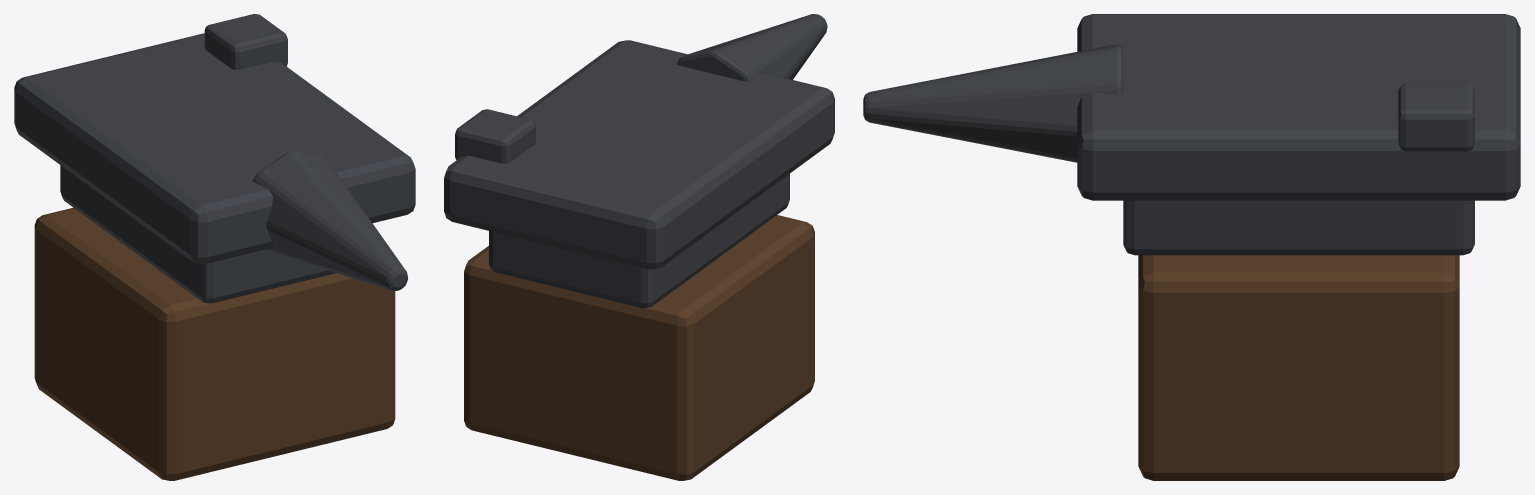
File: anvil.glb
3 renders of one model, left to right at view 1: azimuth 30°, elevation 25°; view 2: azimuth 150°, elevation 25°; view 3: azimuth 270°, elevation 25°, orthographic. The views are drawn at different scales.
Visible parts, largest first — view 1: Cube, Cube.002, Cone, Cube.001, Cube.003; view 2: Cube, Cube.002, Cube.001, Cone, Cube.003; view 3: Cube.002, Cube, Cube.001, Cone, Cube.003.
Boxes of the visible parts, bbox=[...] form: Cube: bbox=[34, 207, 395, 480]; Cube.002: bbox=[14, 33, 415, 263]; Cone: bbox=[253, 150, 407, 290]; Cube.001: bbox=[60, 165, 335, 303]; Cube.003: bbox=[204, 14, 287, 69]; Cube: bbox=[464, 215, 814, 480]; Cube.002: bbox=[444, 40, 834, 269]; Cube.001: bbox=[489, 173, 789, 308]; Cone: bbox=[677, 14, 827, 81]; Cube.003: bbox=[455, 109, 535, 163]; Cube.002: bbox=[1077, 14, 1520, 200]; Cube: bbox=[1138, 255, 1459, 480]; Cube.001: bbox=[1123, 200, 1474, 255]; Cone: bbox=[863, 44, 1123, 162]; Cube.003: bbox=[1398, 83, 1474, 151].
Bounding box in the file's own units: 0.42 × 0.54 × 0.86.
